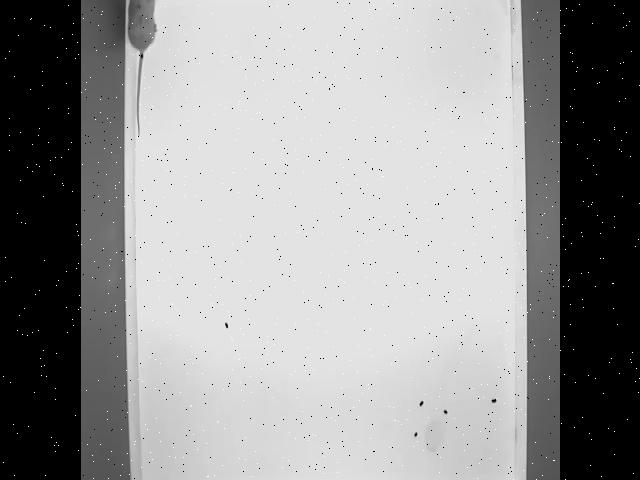Tikus: (123, 0, 167, 140)
